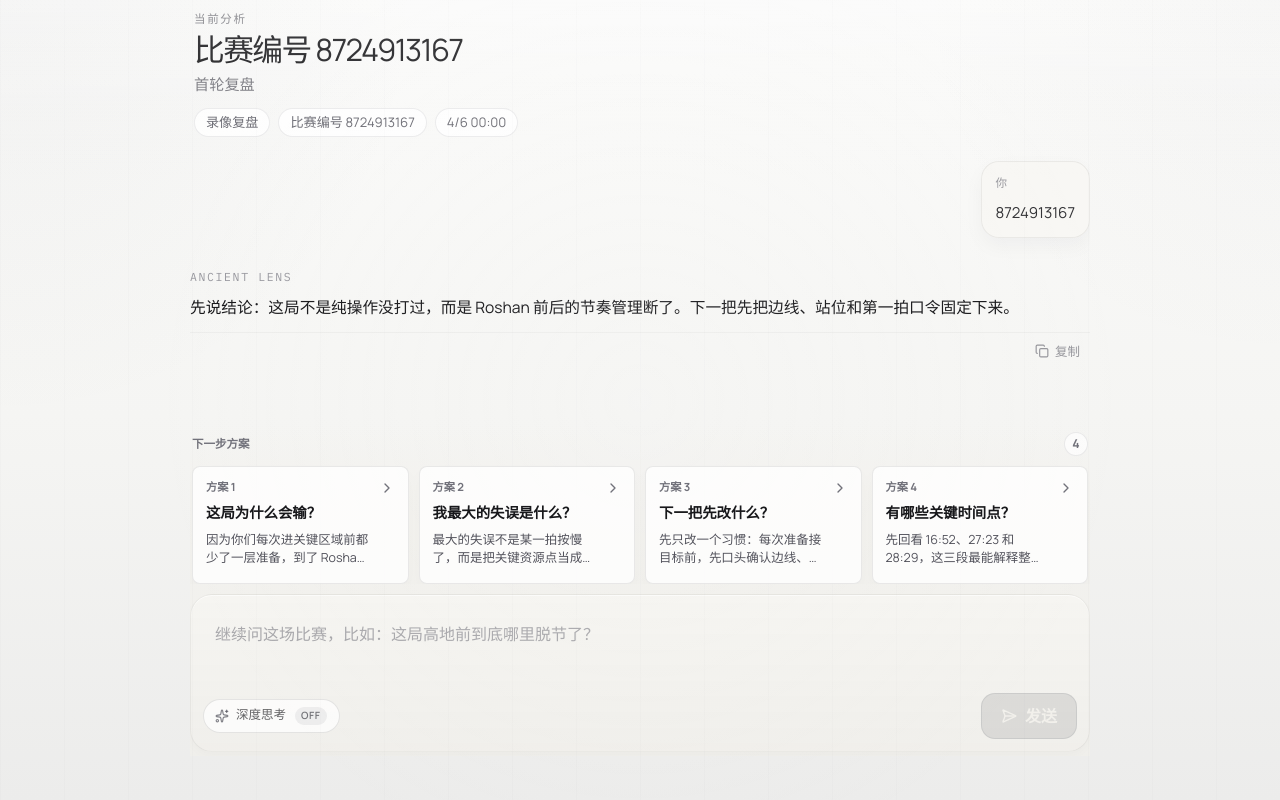
Test: ResultView › does not render a second current assistant placeholder while sending
Type "这波为什么不能接？" into the text box named "继续追问" at (640, 645), box [203,607,1077,683]
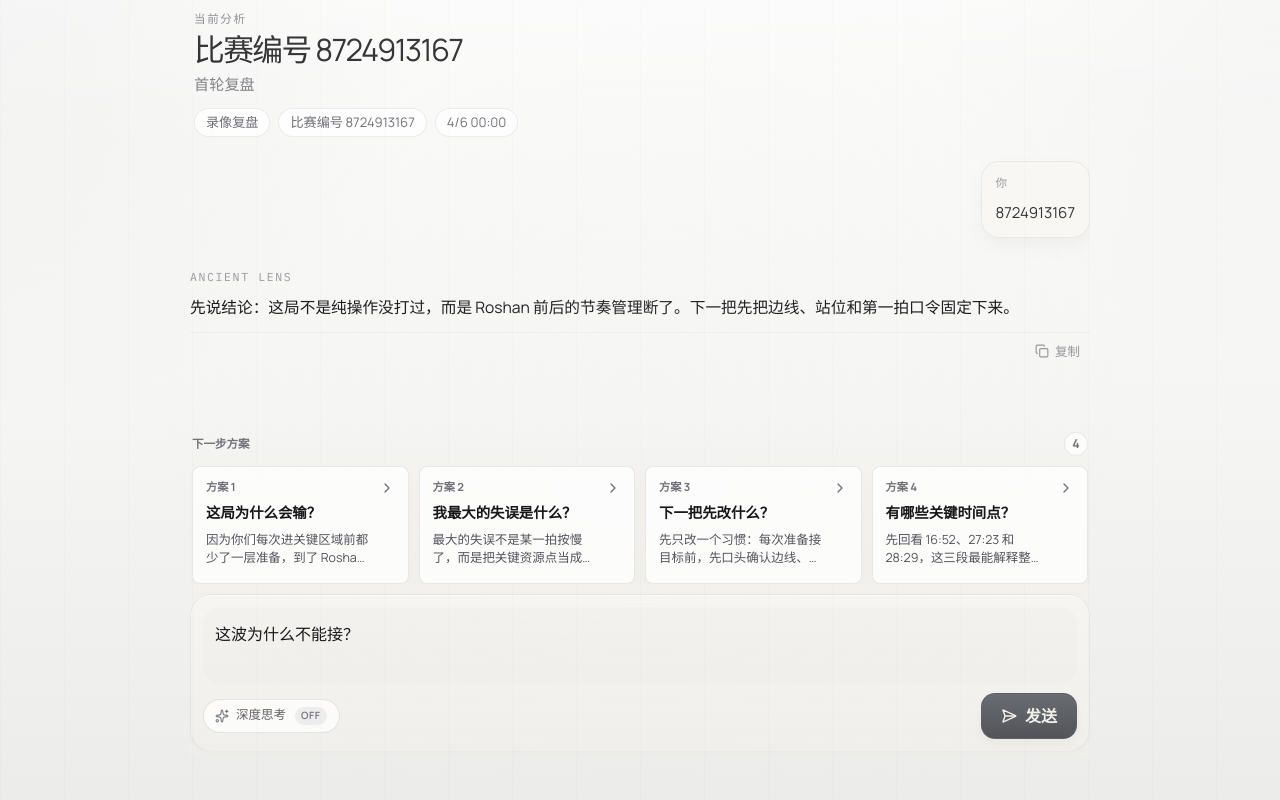
Click the button "发送" at (1029, 716), box [981,693,1077,739]
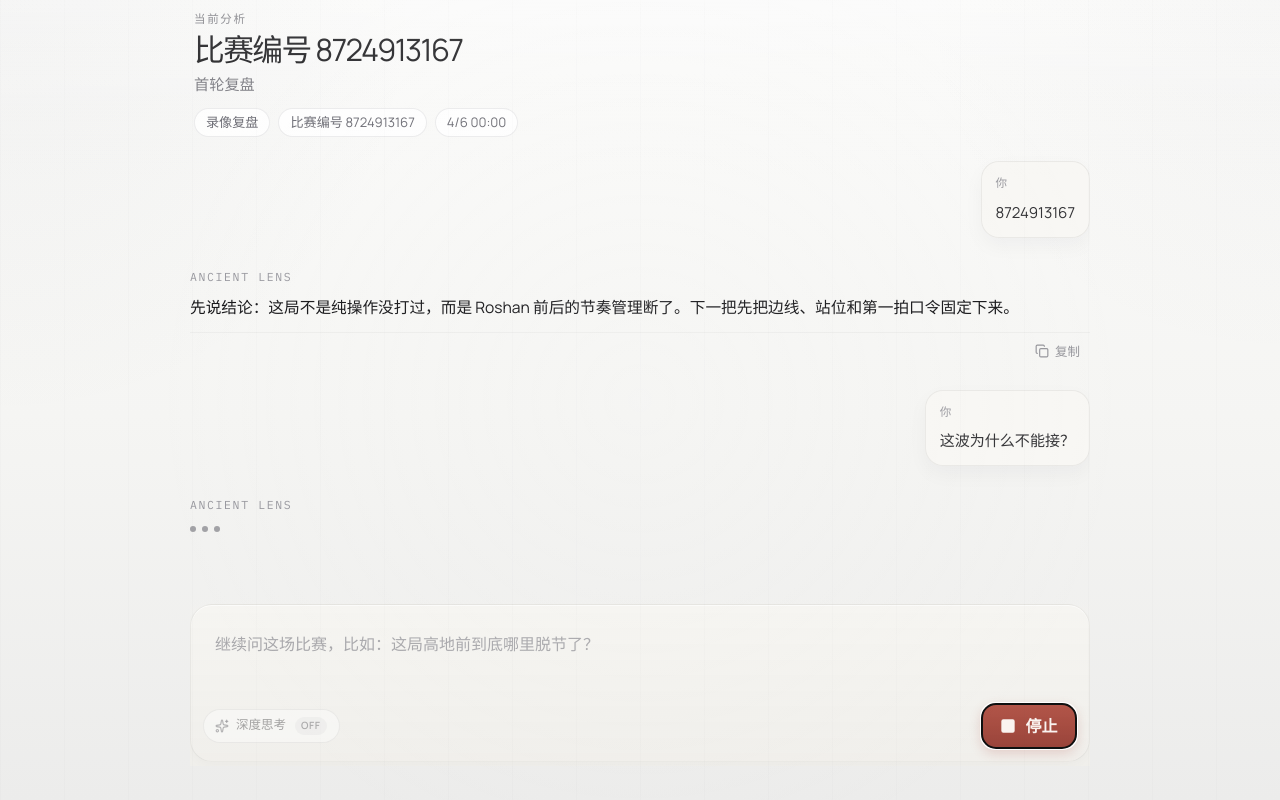
expect the number of elements with class "analysis-chat-row-assistant" is 2: met, box [190,268,1090,368]; [190,497,292,532]
expect the text "Ancient Lens" is shown 2 times: met, box [190,268,292,285]; [190,496,292,514]
expect the text "下一步方案" is gone: met
